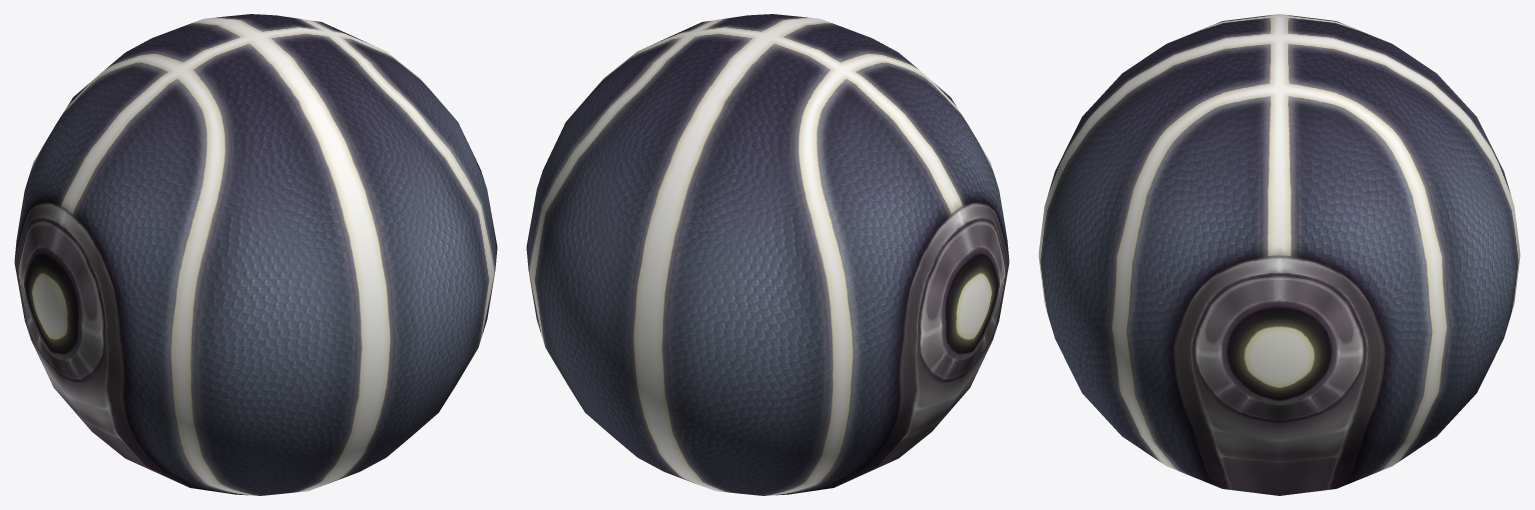
Rendered from Ball_2.FBX.
3 views of the same model, side by side, from view 1: azimuth 30°, elevation 25°; view 2: azimuth 150°, elevation 25°; view 3: azimuth 270°, elevation 25° (orthographic).
Visible parts, largest first — view 1: Ball_2; view 2: Ball_2; view 3: Ball_2.
Part boxes in pixels (x1,y1,x2,y2): Ball_2: (14,14,497,495); Ball_2: (526,14,1009,495); Ball_2: (1038,14,1520,495).
Size of the model in its own units: 43.69 by 43.69 by 43.69.
